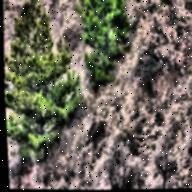boar: (84, 117, 110, 154)
